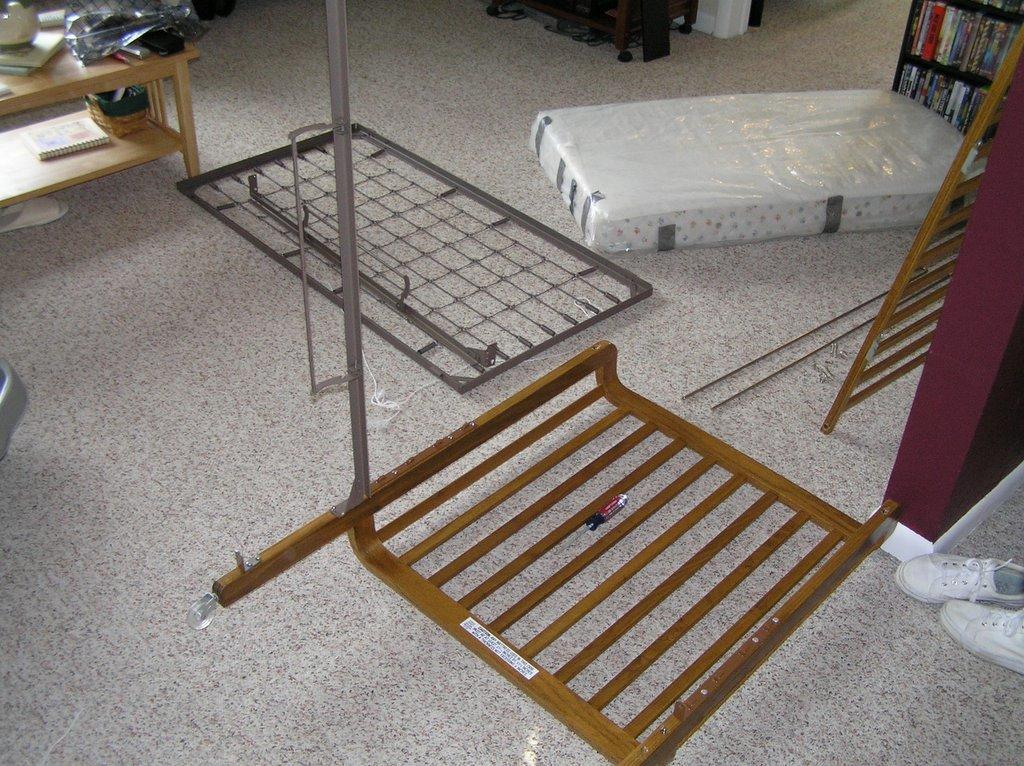Book: (22, 114, 110, 161)
Luggage-and-bags: (527, 85, 983, 255)
